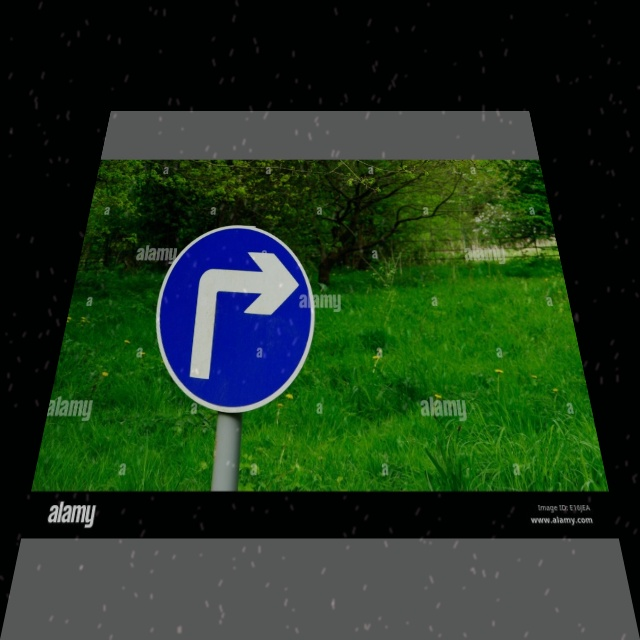Compulsory_Turn_Right_Ahead: (140, 223, 317, 414)
